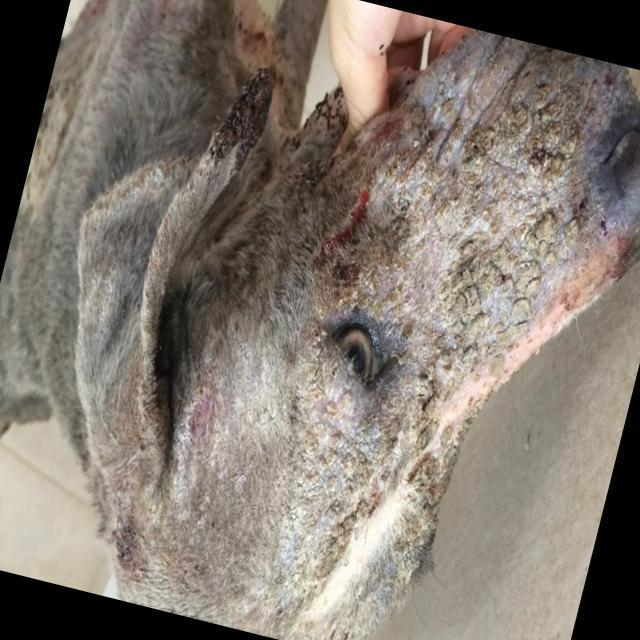mange: (277, 30, 624, 447), (257, 380, 445, 639), (201, 66, 279, 174)
